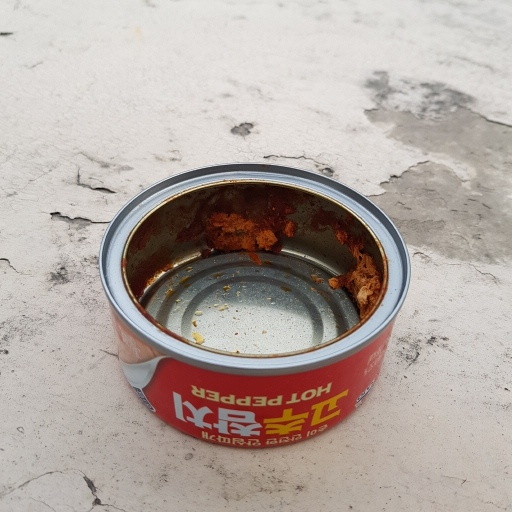Metal_1: (97, 164, 412, 448)
